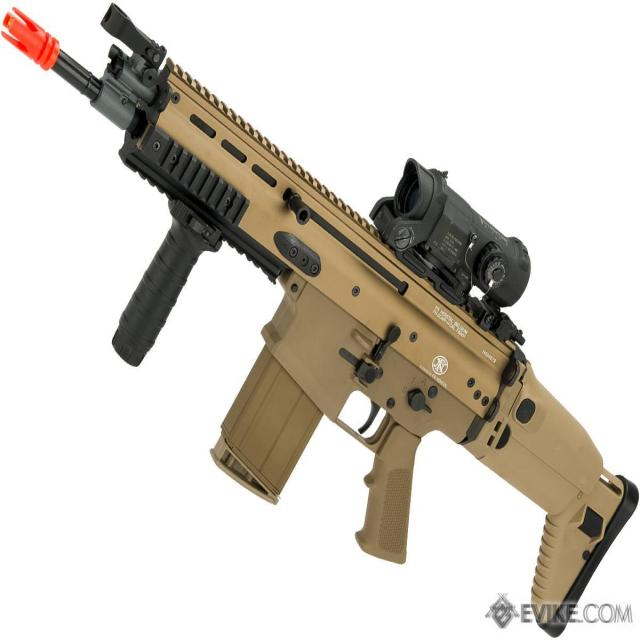Gun: (2, 1, 639, 640)
